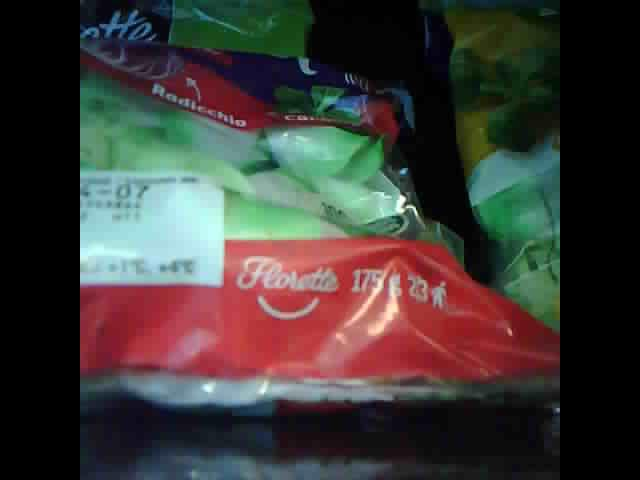florette: (82, 1, 558, 414), (417, 1, 559, 346)
